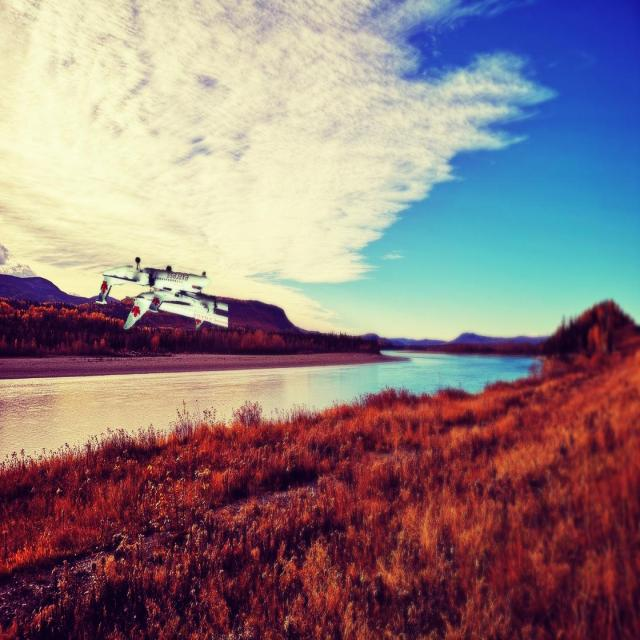airplane: (98, 256, 230, 331)
